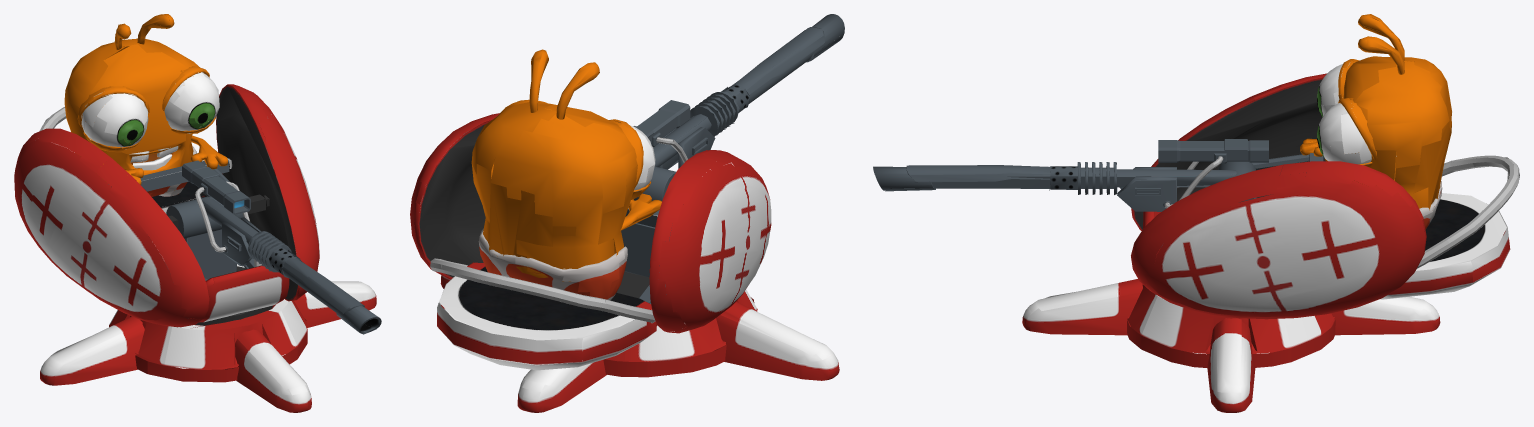
Rendered from sniper_tower.glb.
The picture shows the model from 3 angles, left to right: view 1: azimuth 30°, elevation 25°; view 2: azimuth 150°, elevation 25°; view 3: azimuth 270°, elevation 25°; orthographic projection. The views are drawn at different scales.
Visible parts, largest first — view 1: Shields Part_8, Starling_11, Weapon Part_9, Base Legs_7, Base Support_5, Base Center_10, Scope_6; view 2: Starling_11, Shields Part_8, Weapon Part_9, Base Legs_7, Base Support_5, Base Center_10, Scope_6; view 3: Shields Part_8, Weapon Part_9, Starling_11, Base Legs_7, Base Support_5, Scope_6.
Part boxes in pixels (x1=…): Shields Part_8: x1=14, y1=84, x2=319, y2=327; Starling_11: x1=64, y1=14, x2=227, y2=196; Weapon Part_9: x1=39, y1=107, x2=381, y2=334; Base Legs_7: x1=40, y1=281, x2=376, y2=412; Base Support_5: x1=109, y1=264, x2=307, y2=382; Base Center_10: x1=166, y1=196, x2=272, y2=325; Scope_6: x1=182, y1=160, x2=250, y2=214; Starling_11: x1=471, y1=49, x2=661, y2=300; Shields Part_8: x1=410, y1=113, x2=771, y2=333; Weapon Part_9: x1=430, y1=14, x2=844, y2=370; Base Legs_7: x1=440, y1=275, x2=839, y2=412; Base Support_5: x1=603, y1=289, x2=757, y2=377; Base Center_10: x1=616, y1=166, x2=676, y2=298; Scope_6: x1=633, y1=100, x2=690, y2=147; Shields Part_8: x1=1131, y1=73, x2=1426, y2=319; Weapon Part_9: x1=873, y1=153, x2=1519, y2=299; Starling_11: x1=1300, y1=14, x2=1451, y2=229; Base Legs_7: x1=1022, y1=279, x2=1440, y2=412; Base Support_5: x1=1127, y1=284, x2=1335, y2=367; Scope_6: x1=1158, y1=139, x2=1268, y2=163.
Size of the model in its own units: 3.94 by 3.12 by 6.1.
Materials: 4 (3 with a texture image).
